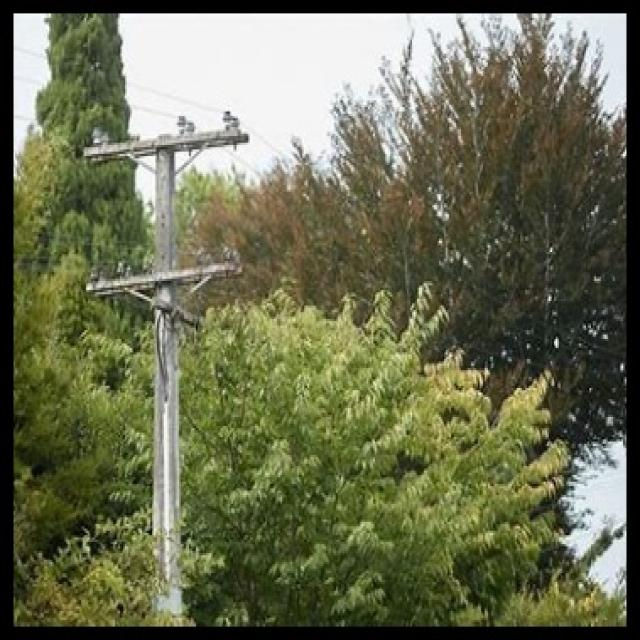utility poles: (72, 96, 262, 628)
